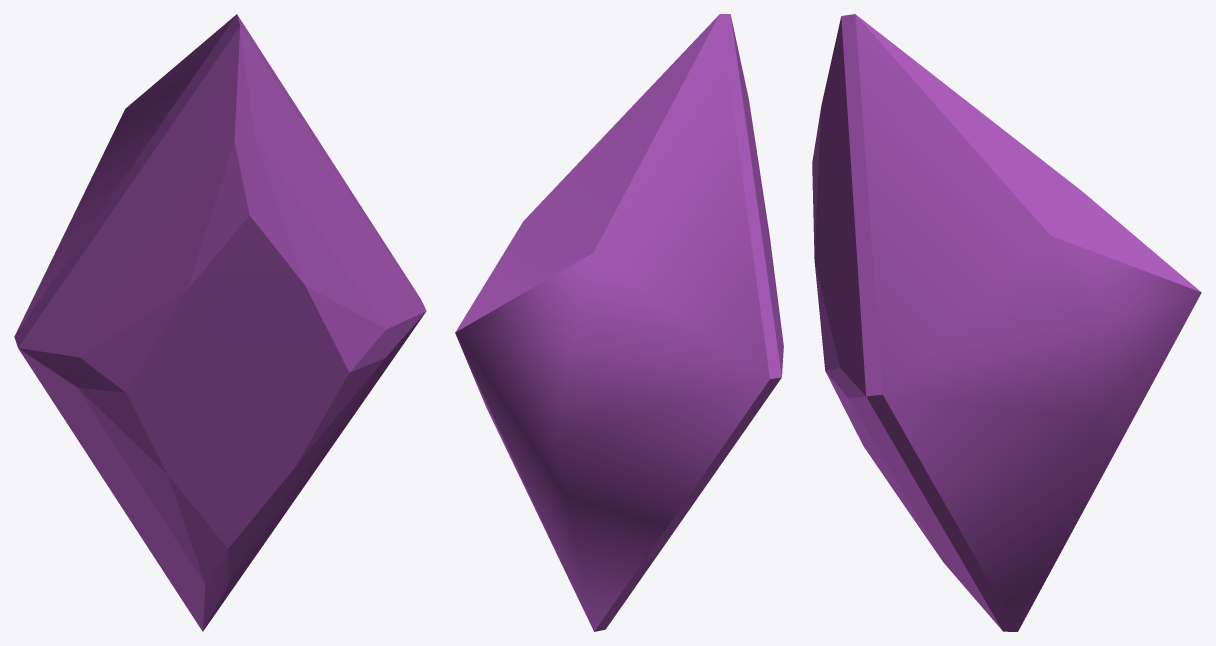
Rendered from BL2_8shapes_Kite_Classic_Stone.001 3.glb.
The picture shows the model from 3 angles, left to right: view 1: azimuth 30°, elevation 25°; view 2: azimuth 150°, elevation 25°; view 3: azimuth 270°, elevation 25°; orthographic projection. The views are drawn at different scales.
Parts seen in each view (by area): view 1: BL2_8shapes_Kite_Classic_Stone.001; view 2: BL2_8shapes_Kite_Classic_Stone.001; view 3: BL2_8shapes_Kite_Classic_Stone.001.
Boxes of the visible parts, x1,y1,x2,y2 form: BL2_8shapes_Kite_Classic_Stone.001: (14, 14, 426, 631); BL2_8shapes_Kite_Classic_Stone.001: (455, 14, 783, 631); BL2_8shapes_Kite_Classic_Stone.001: (812, 14, 1201, 631).
Bounding box in the file's own units: 0.2727 × 0.521 × 0.3087.
